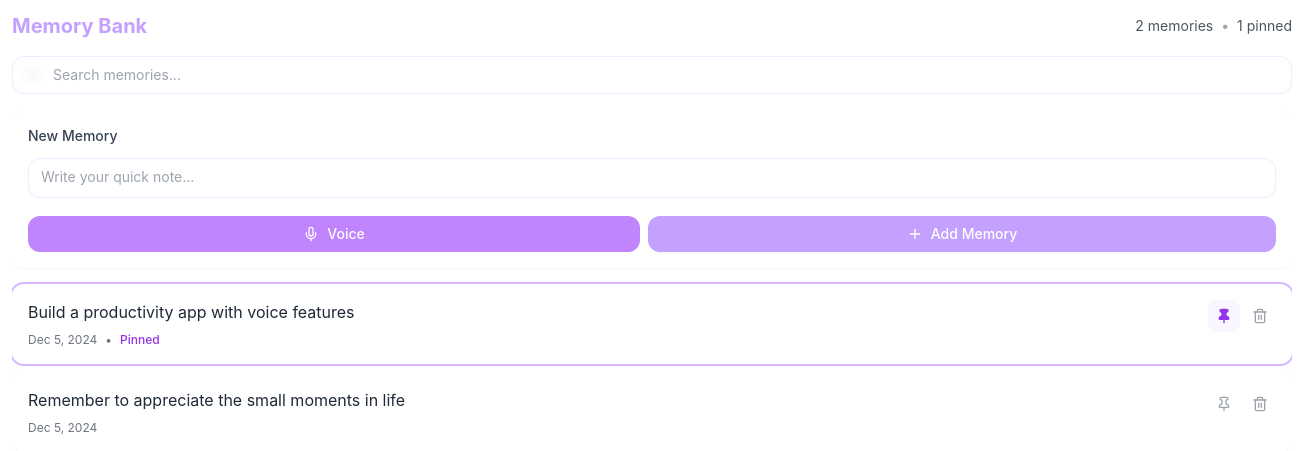
MemoryBank Component › should filter memories by search query
Type "productivity" into the field with placeholder "Search memories...". click: (652, 75)
box: [12,56,1292,94]
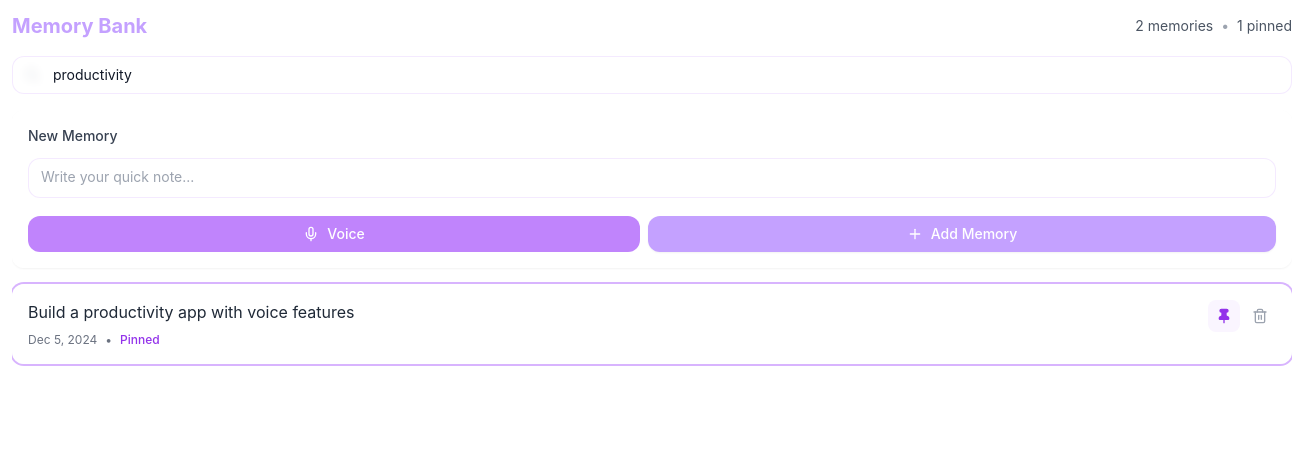
Expected: the text "Build a productivity app with voice features" is shown, [28,302,354,322]
Result: the text "Remember to appreciate the small moments in life" is gone
